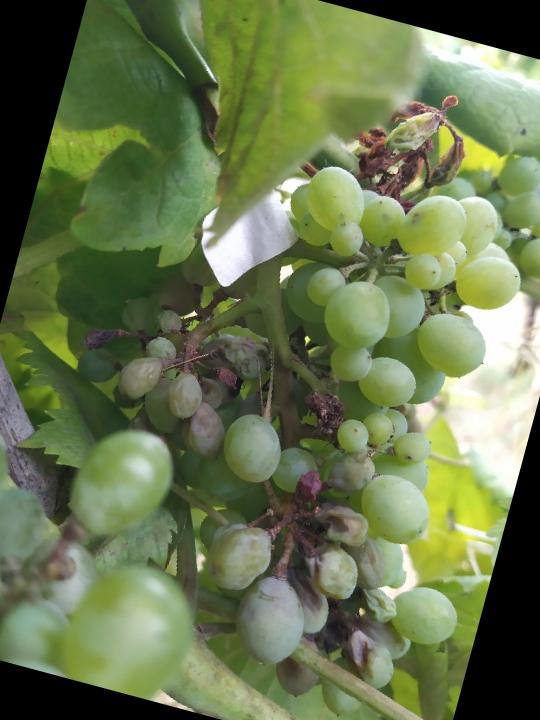grape: (50, 113, 540, 720)
